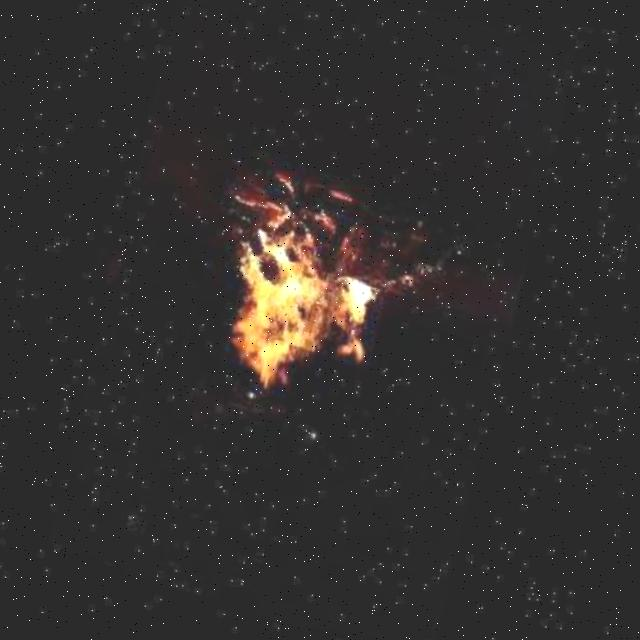fire: (205, 187, 403, 430)
